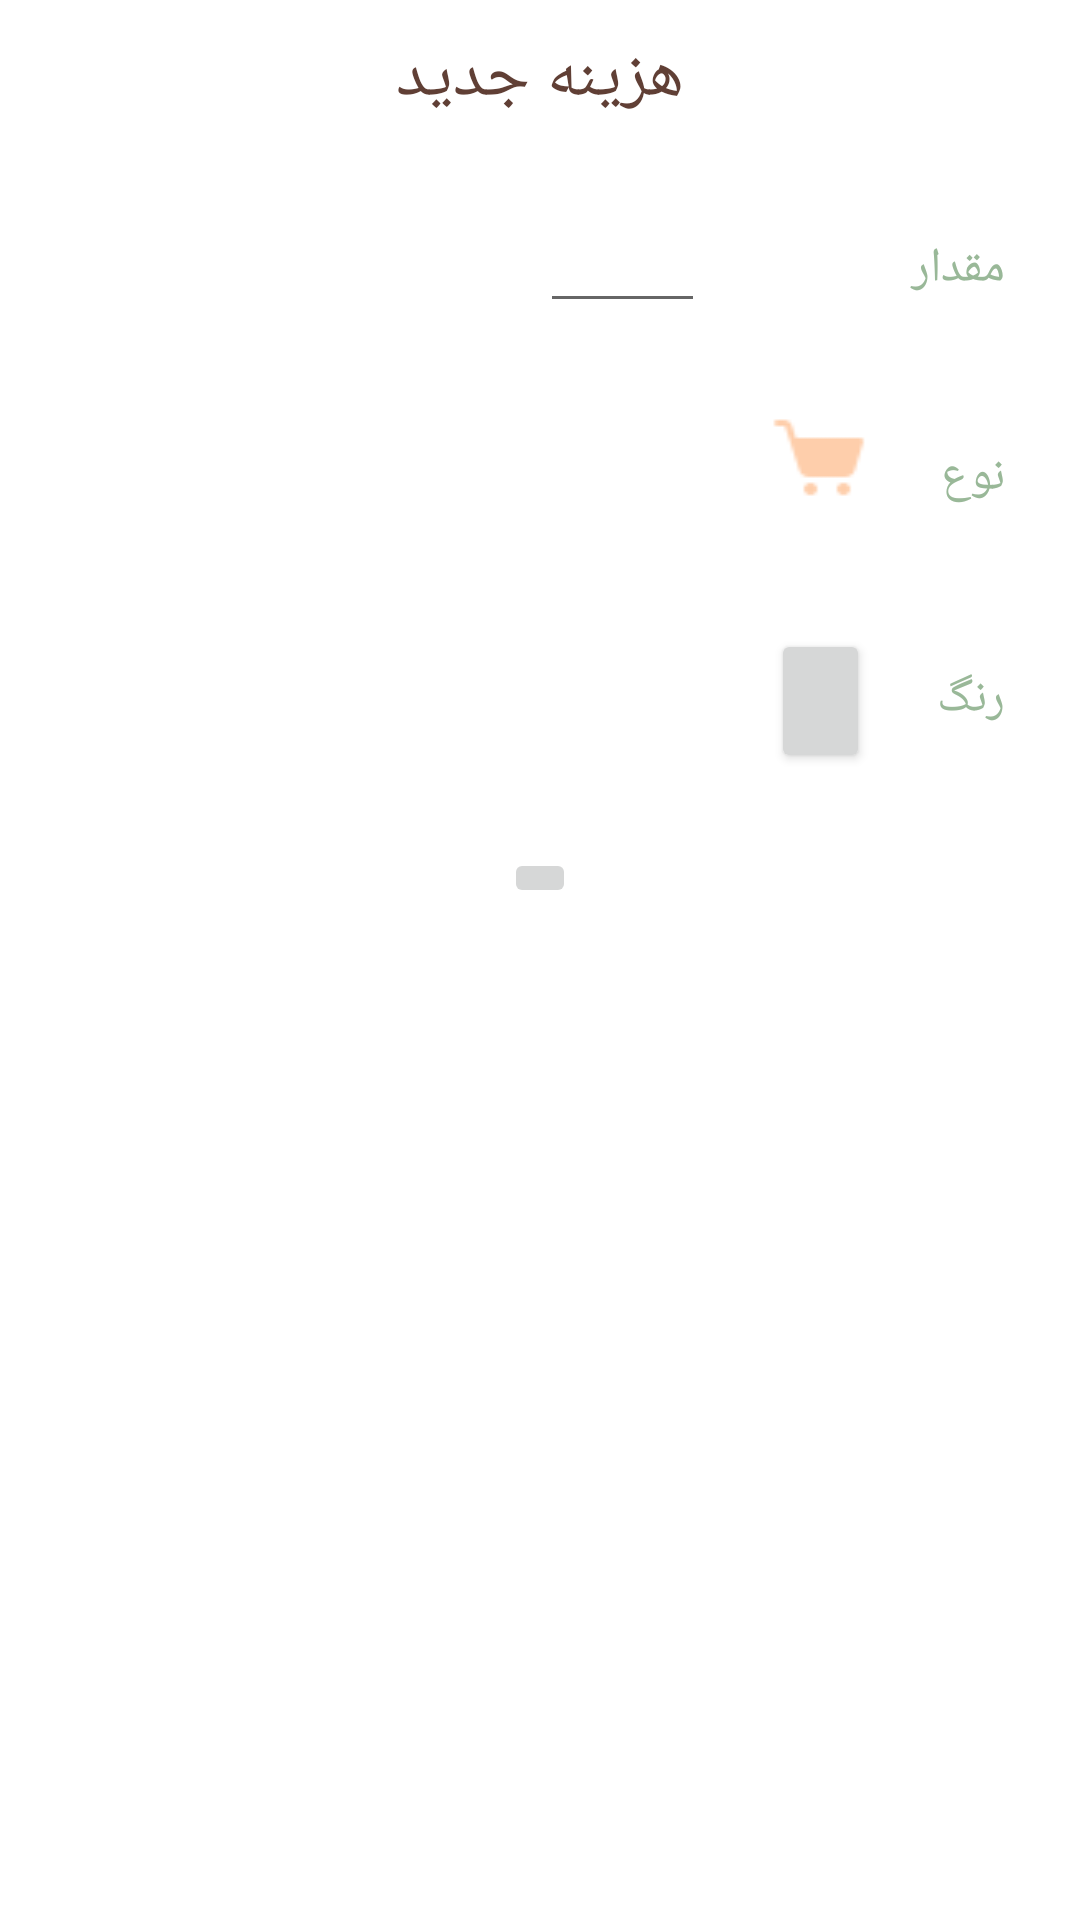

Where icons sit on this 1080 × 1920 app screen, as detection(x1, y1, x2, y2):
shopping: detection(774, 419, 864, 496)
